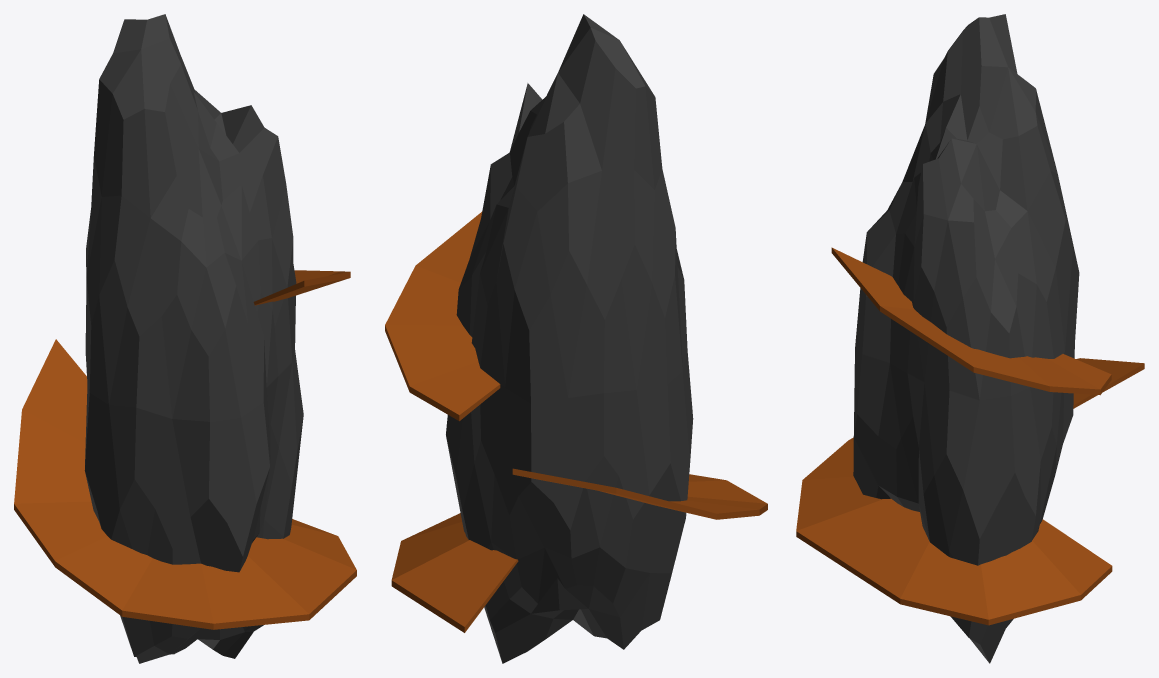
Rendered from Map1_Island2_3_Connector.fbx.
3 views of the same model, side by side, from view 1: azimuth 30°, elevation 25°; view 2: azimuth 150°, elevation 25°; view 3: azimuth 270°, elevation 25° (orthographic). The views are drawn at different scales.
Parts seen in each view (by area): view 1: StoneConnect, Ramp; view 2: StoneConnect, Ramp; view 3: StoneConnect, Ramp.
Part boxes in pixels (bbox=[...]): StoneConnect: bbox=[84, 14, 303, 663]; Ramp: bbox=[14, 270, 356, 629]; StoneConnect: bbox=[446, 14, 693, 663]; Ramp: bbox=[385, 211, 767, 632]; StoneConnect: bbox=[853, 14, 1079, 663]; Ramp: bbox=[796, 247, 1144, 625].
Bounding box in the file's own units: 156 × 309 × 159.
